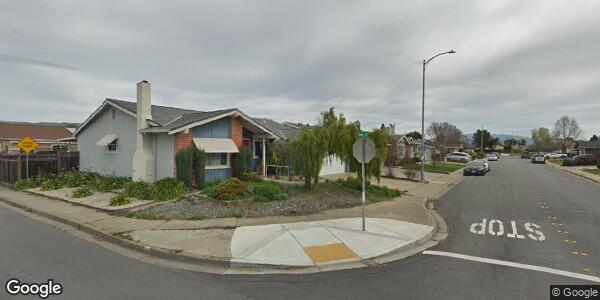Steel_Pole: (420, 48, 457, 184)
